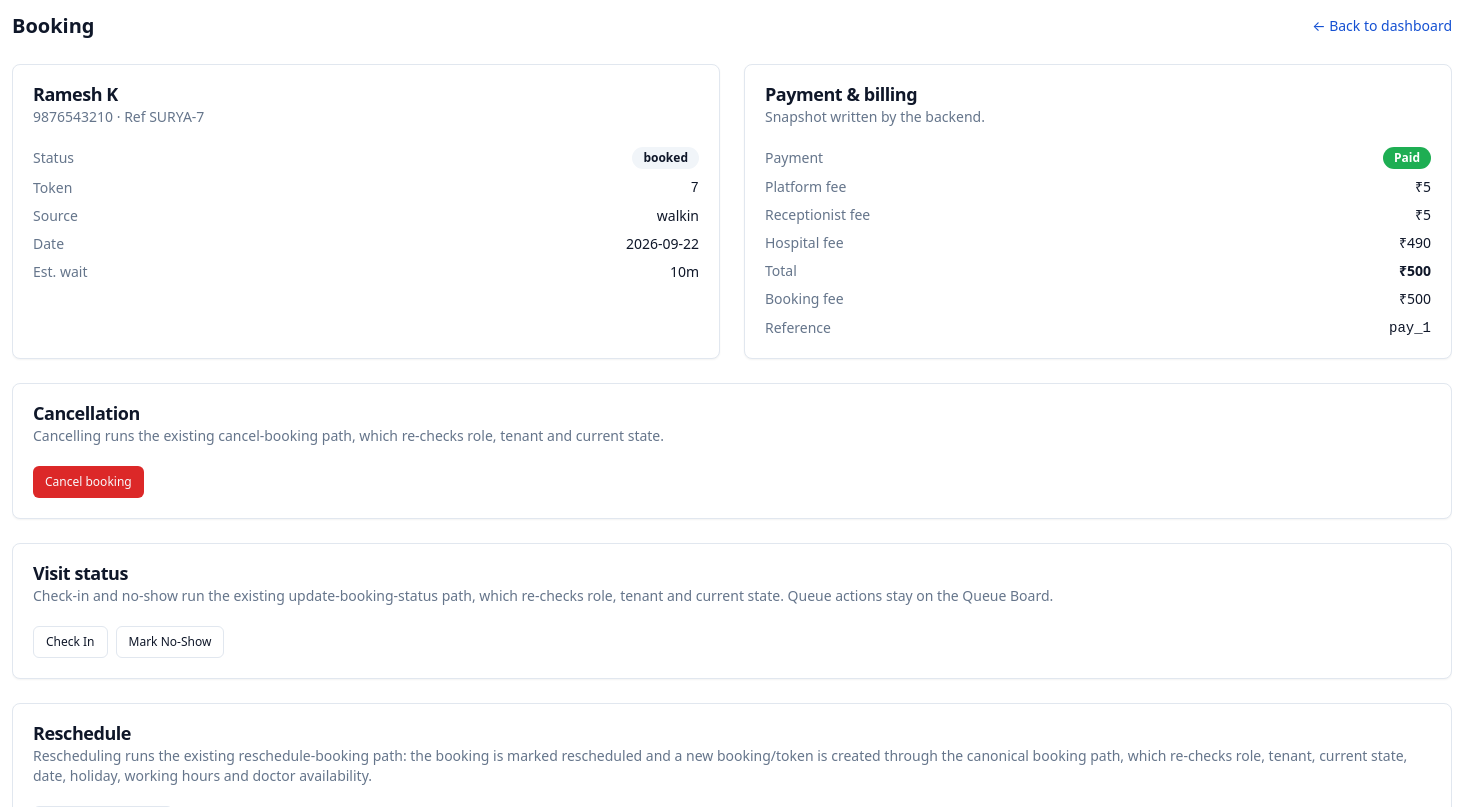
Test: BookingDetail status-closure control › requires confirmation before anything is sent
The image size is (1464, 807).
Expected: the heading "Ramesh K" is shown, [33, 82, 118, 106]
Click the button "Check In". click: (70, 642)
box: [33, 626, 108, 658]
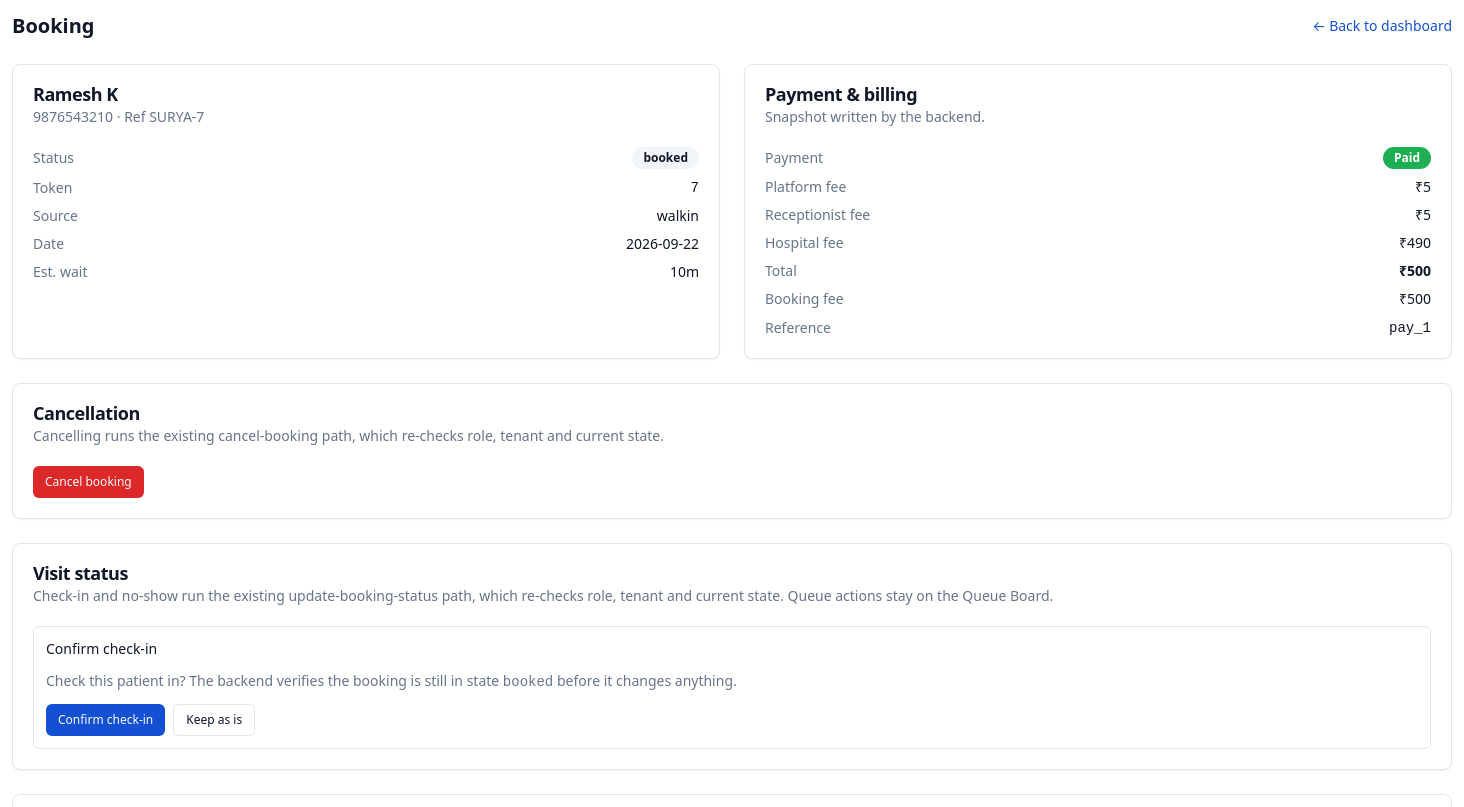
Result: the button "Confirm check-in" is shown at [46, 704, 165, 736]
Result: the text "Check this patient in?" is shown at [46, 671, 503, 690]
